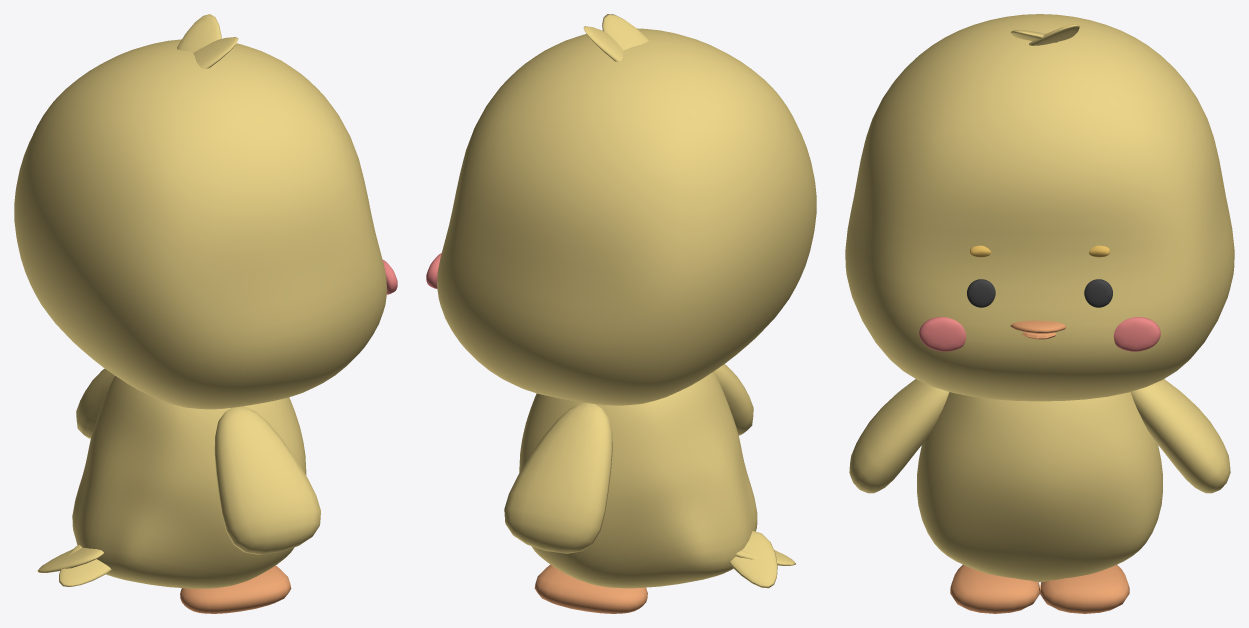
File: chick2.glb
3 renders of one model, left to right at view 1: azimuth 30°, elevation 25°; view 2: azimuth 150°, elevation 25°; view 3: azimuth 270°, elevation 25°, orthographic. The views are drawn at different scales.
Parts seen in each view (by area): view 1: Cube, Cube.001, Cube.002, Cube.003, Cube.006, Cube.007; view 2: Cube, Cube.001, Cube.002, Cube.003, Cube.007, Cube.006; view 3: Cube, Cube.001, Cube.002, Cube.003, Circle.001, Circle, Cube.006, Cube.004.
Boxes of the visible parts, box(x1,y1,x2,y2) form: Cube: box(14, 39, 387, 409); Cube.001: box(72, 376, 306, 588); Cube.002: box(76, 368, 320, 554); Cube.003: box(180, 565, 291, 613); Cube.006: box(177, 14, 238, 68); Cube.007: box(37, 544, 111, 586); Cube: box(437, 28, 816, 405); Cube.001: box(519, 371, 757, 588); Cube.002: box(504, 364, 753, 553); Cube.003: box(534, 564, 647, 613); Cube.007: box(729, 531, 795, 588); Cube.006: box(583, 14, 648, 61); Cube: box(845, 14, 1234, 401); Cube.001: box(917, 392, 1162, 582); Cube.002: box(849, 379, 1230, 493); Cube.003: box(950, 564, 1129, 613); Circle.001: box(919, 317, 1160, 351); Circle: box(967, 279, 1112, 307); Cube.006: box(1011, 24, 1079, 45); Cube.004: box(1010, 320, 1066, 333).
Size of the model in its own units: 1.73 by 2.93 by 1.78.
